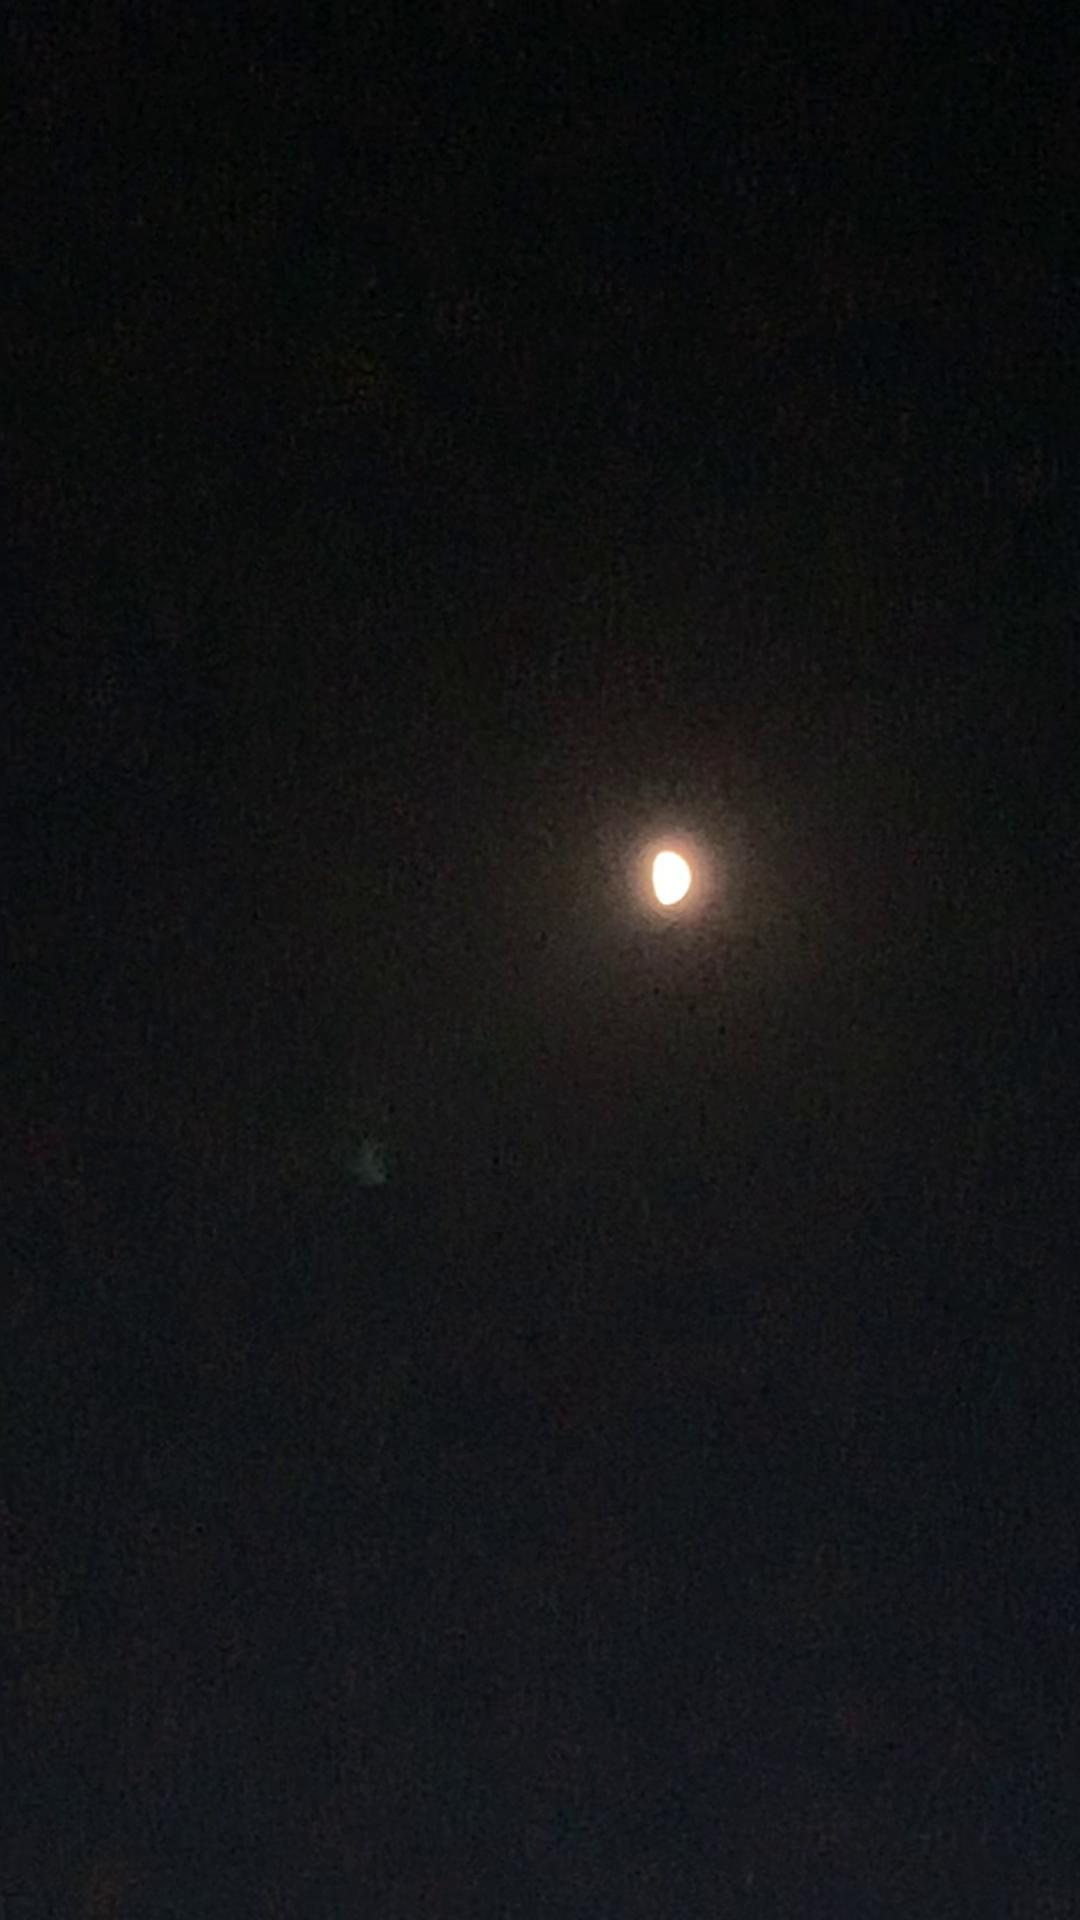moon: (620, 816, 712, 914)
